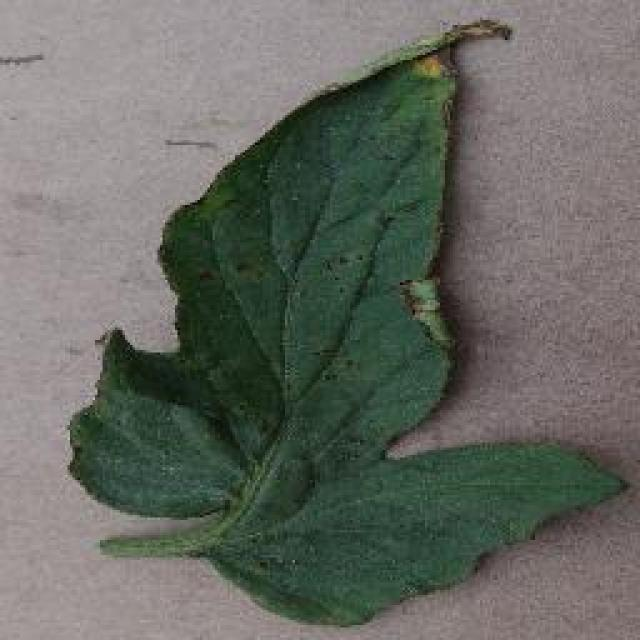bacterial spot: (63, 19, 637, 629)
